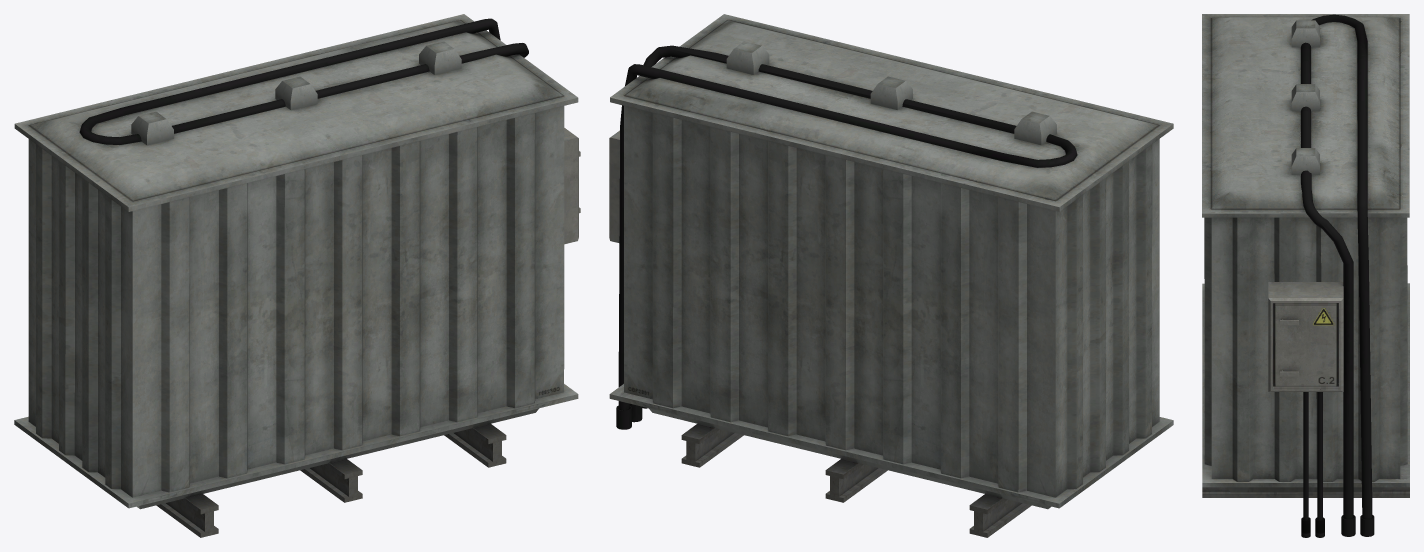
File: Large_Transformething.fbx
3 views of the same model, side by side, from view 1: azimuth 30°, elevation 25°; view 2: azimuth 150°, elevation 25°; view 3: azimuth 270°, elevation 25° (orthographic). The views are drawn at different scales.
Visible parts, largest first — view 1: Large_Transformer_NOTANK; view 2: Large_Transformer_NOTANK; view 3: Large_Transformer_NOTANK.
Boxes of the visible parts, <box> form: Large_Transformer_NOTANK: <box>14,14,580,537</box>; Large_Transformer_NOTANK: <box>609,14,1173,537</box>; Large_Transformer_NOTANK: <box>1202,14,1409,537</box>.
Bounding box in the file's own units: 390 × 284 × 156.
1 material, 1 textured.
